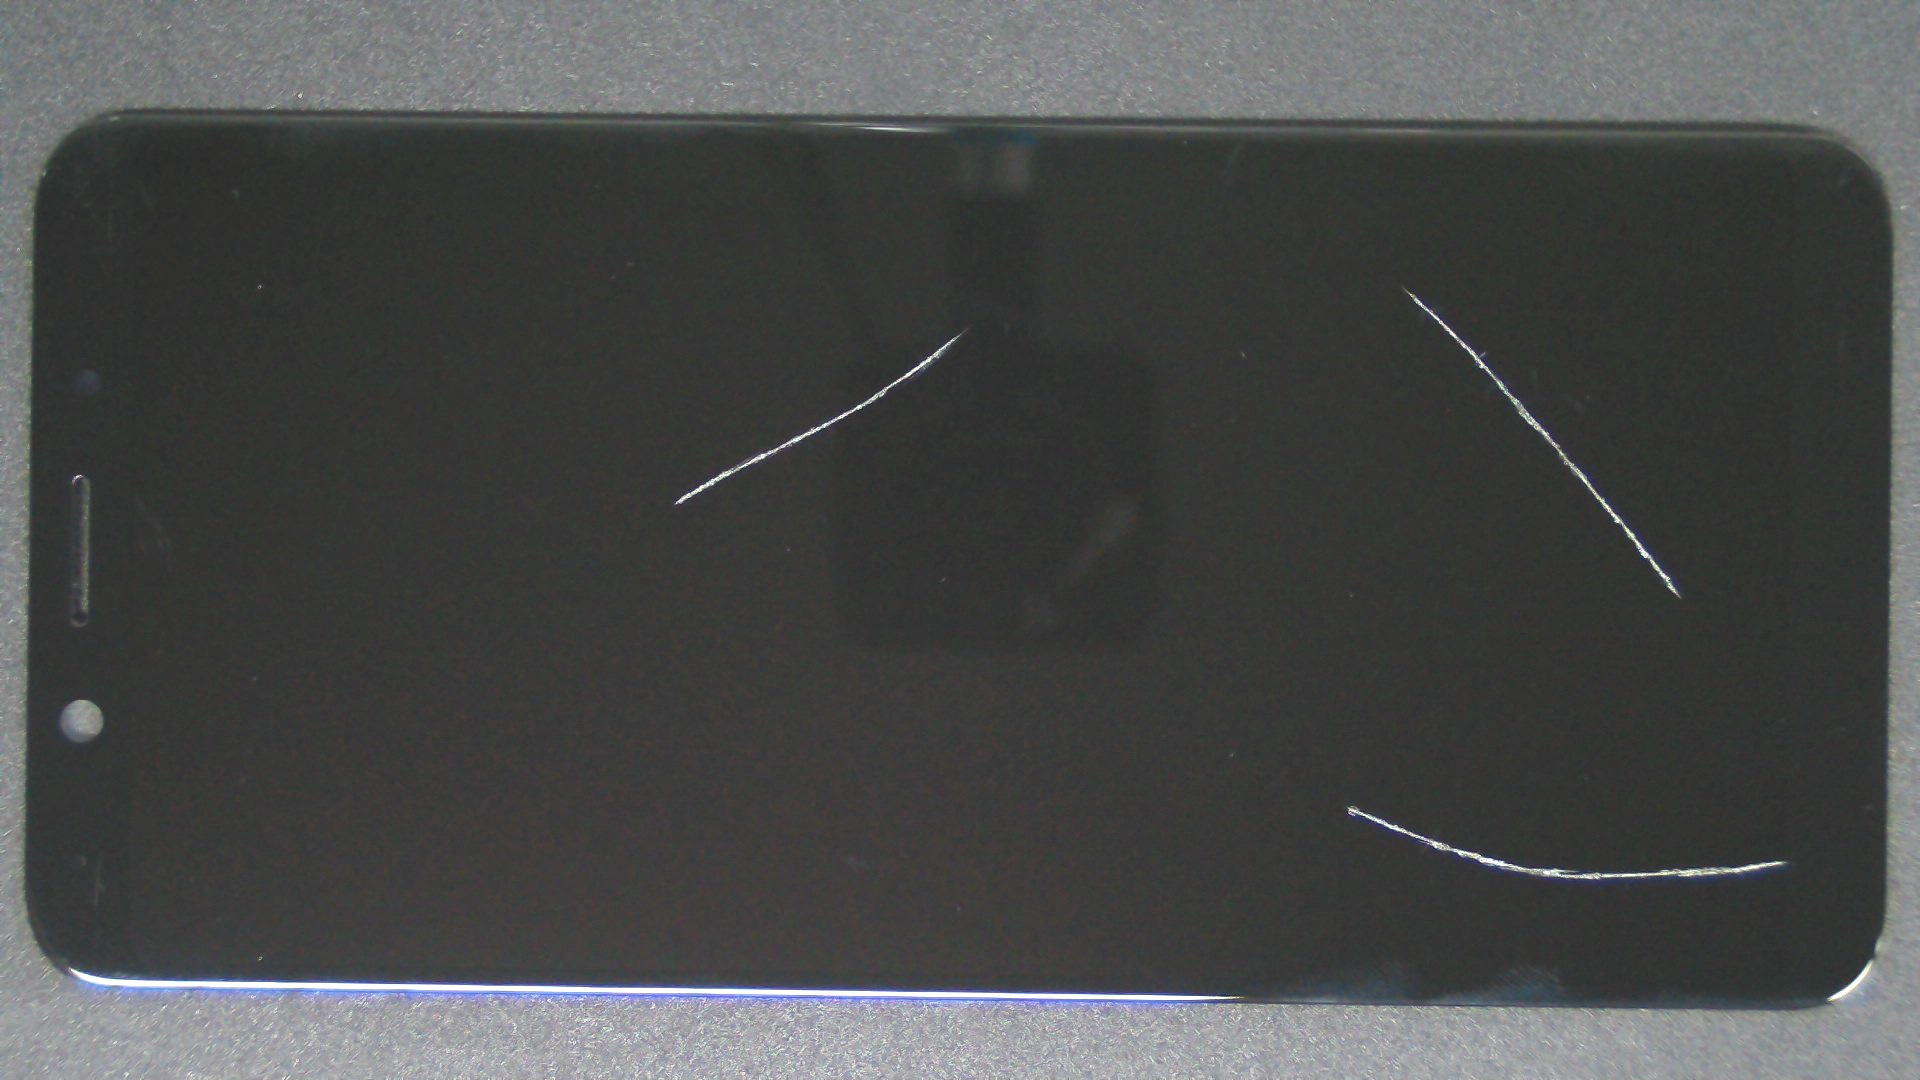oil: (676, 401, 1920, 1080), (700, 142, 1920, 431), (481, 166, 1443, 498)
